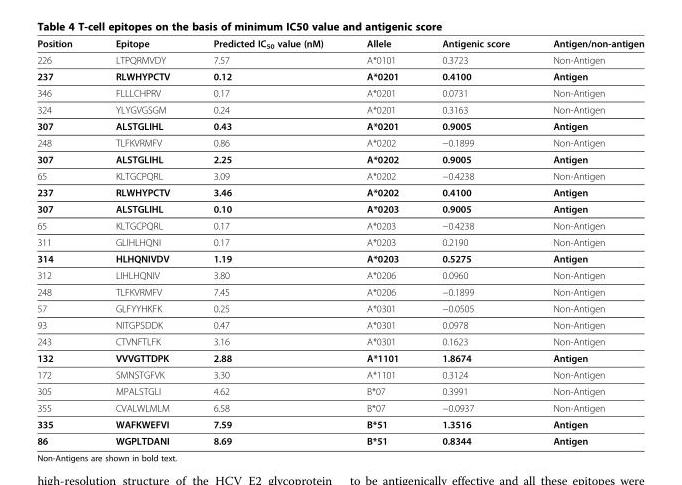table: (36, 37, 643, 446)
table column: (190, 37, 344, 446), (530, 37, 643, 446), (419, 37, 530, 446), (93, 37, 190, 446), (344, 37, 419, 446), (36, 37, 93, 446)
table column header: (36, 37, 643, 51)
table row: (36, 67, 643, 84), (36, 84, 643, 101), (36, 133, 643, 150), (36, 150, 643, 167), (36, 183, 643, 200), (36, 216, 643, 233), (36, 233, 643, 250), (36, 266, 643, 283), (36, 299, 643, 316), (36, 332, 643, 349), (36, 349, 643, 366), (36, 382, 643, 399), (36, 415, 643, 432), (36, 51, 643, 67), (36, 101, 643, 117), (36, 117, 643, 133), (36, 167, 643, 183), (36, 200, 643, 216), (36, 250, 643, 266), (36, 283, 643, 299), (36, 316, 643, 332), (36, 366, 643, 382), (36, 399, 643, 415), (36, 37, 643, 51), (36, 432, 643, 446)
